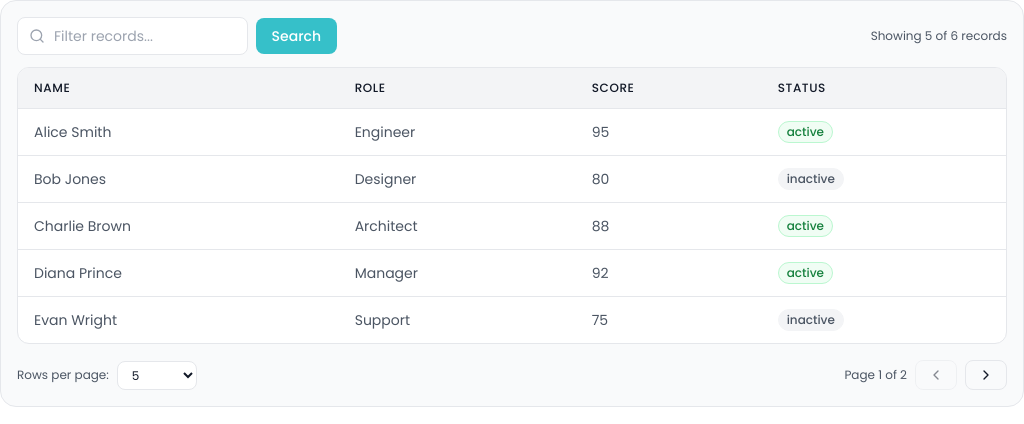
Test: DataTable › displays empty message when no records match filter
The width and height of the screenshot is (1024, 424).
Type "nonexistentquery" into the search field with placeholder "Filter records...".
click(132, 36); type("nonexistentquery")  # box [17, 17, 248, 55]
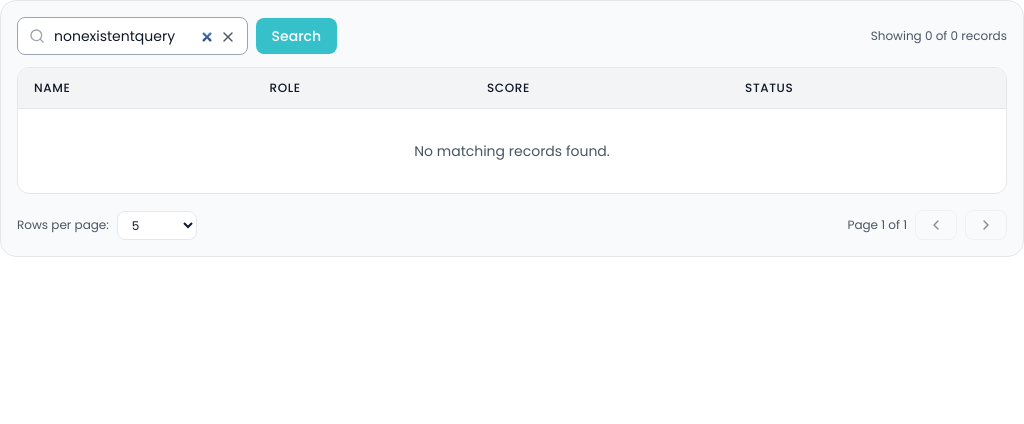
Expected: the text "No matching records found." is shown, [18, 108, 1006, 193]
